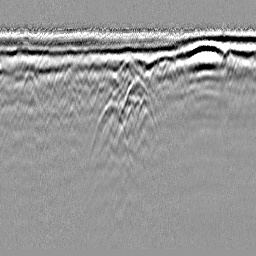cavity: (111, 73, 160, 141)
